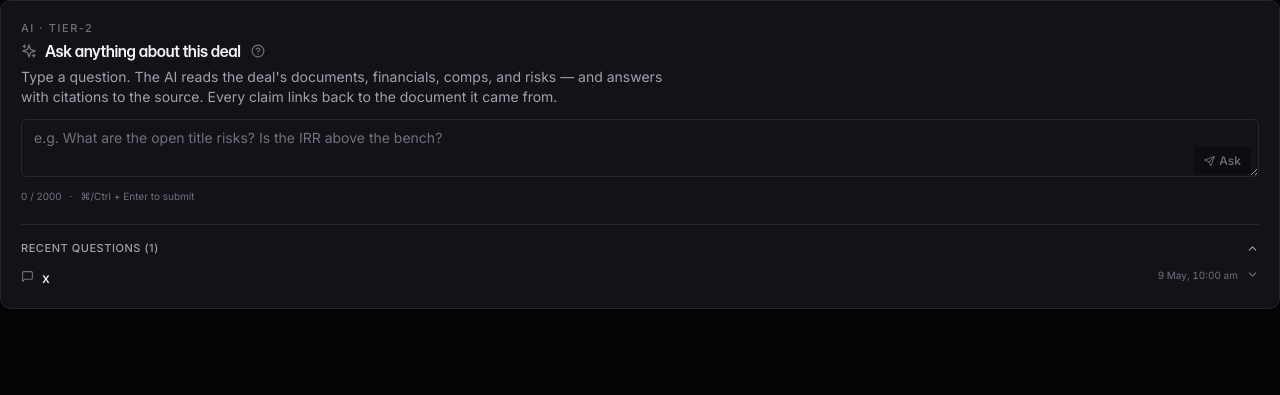
DealQaBox › shows the failure-reason banner on a failed history row
Step 1. Click the text "x" → (46, 277), box [42,269,50,286]
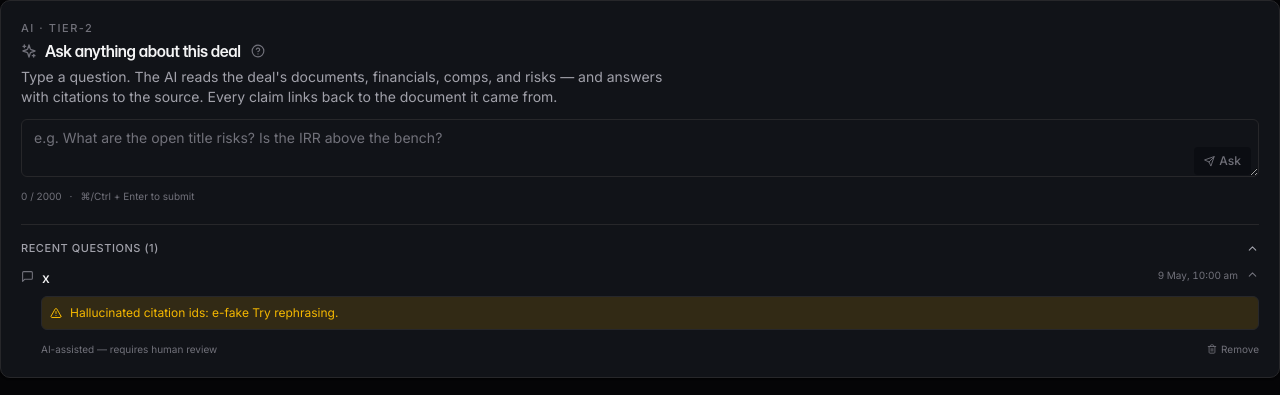
Check: the text "Hallucinated citation ids: e-fake Try rephrasing." is shown, box [70,305,338,321]
